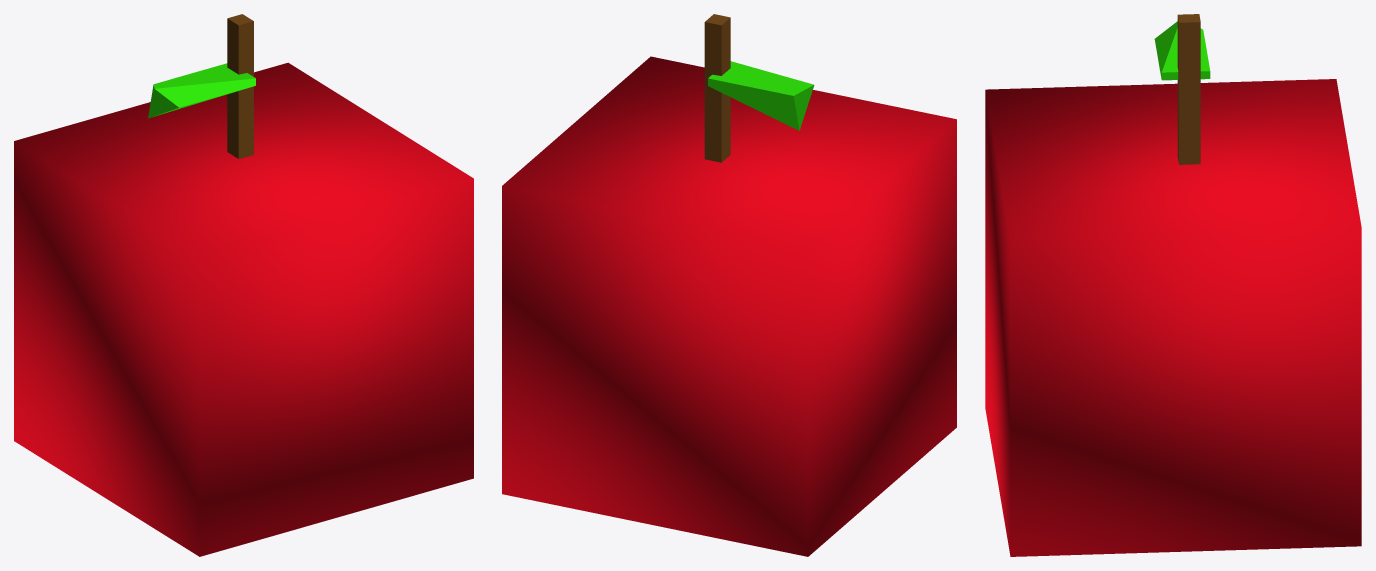
File: asset.gltf
3 views of the same model, side by side, from view 1: azimuth 30°, elevation 25°; view 2: azimuth 150°, elevation 25°; view 3: azimuth 270°, elevation 25° (orthographic). The views are drawn at different scales.
Parts seen in each view (by area): view 1: Cube_0; view 2: Cube_0; view 3: Cube_0.
Boxes of the visible parts, bbox=[...] form: Cube_0: bbox=[14, 14, 473, 556]; Cube_0: bbox=[502, 14, 956, 556]; Cube_0: bbox=[985, 14, 1361, 556].
Size of the model in its own units: 2.14 by 2.89 by 2.14.
